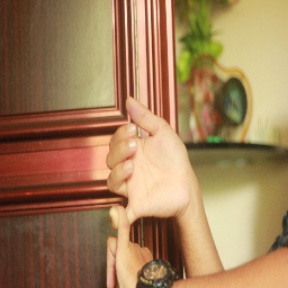S: (97, 93, 199, 288)
